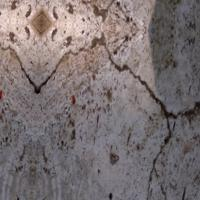crack: (0, 27, 199, 190)
